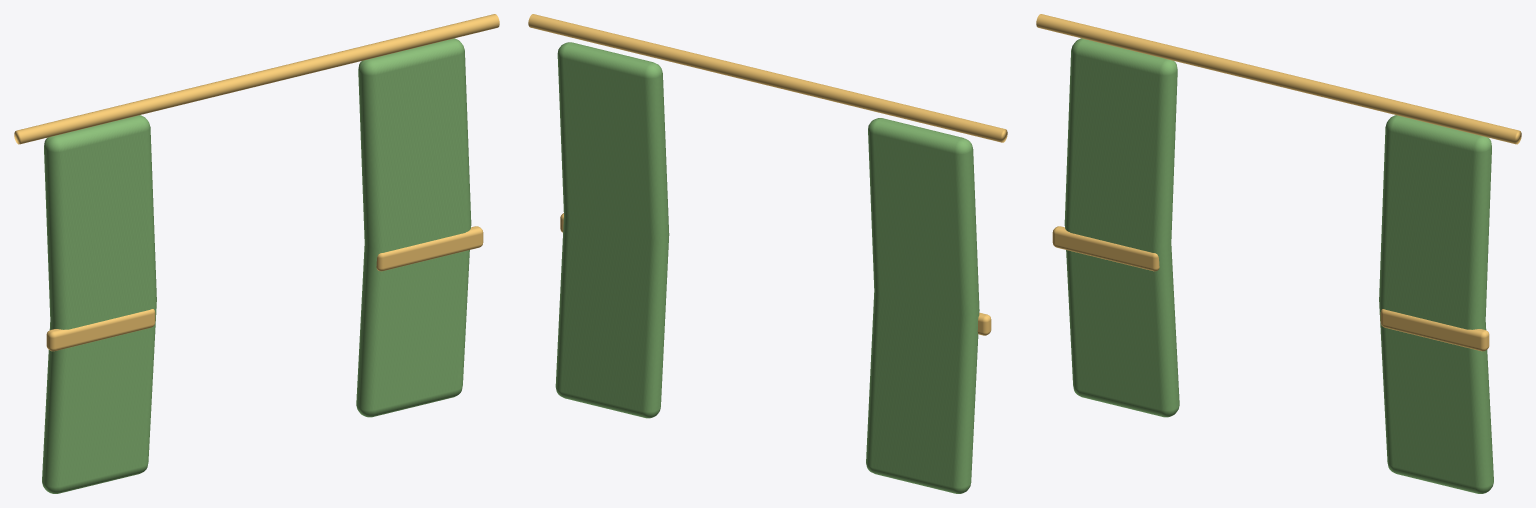
Rendered from Curtain.glb.
3 renders of one model, left to right at view 1: azimuth 30°, elevation 25°; view 2: azimuth 150°, elevation 25°; view 3: azimuth 330°, elevation 25°, orthographic.
Parts seen in each view (by area): view 1: Curtain; view 2: Curtain; view 3: Curtain.
Boxes of the visible parts, bbox=[...] form: Curtain: bbox=[14, 14, 499, 493]; Curtain: bbox=[528, 14, 1007, 493]; Curtain: bbox=[1036, 14, 1521, 493].
Bounding box in the file's own units: 1.4 × 1.05 × 0.1123.
2 materials, 1 textured.
